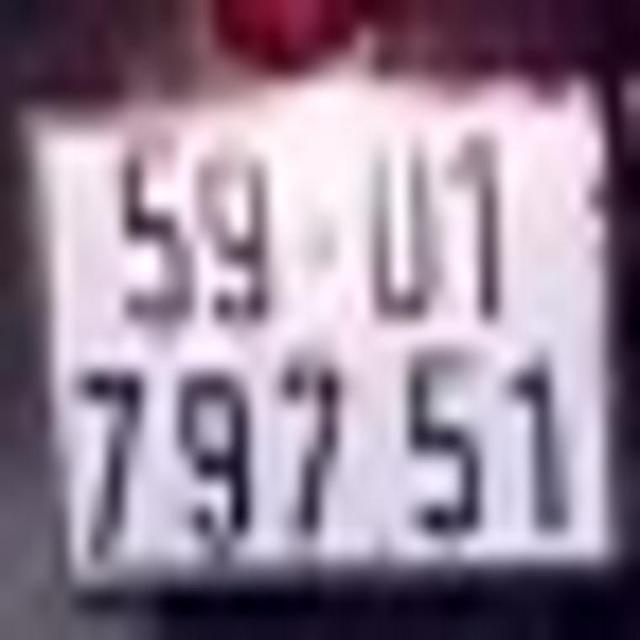1: (448, 126, 511, 326), (511, 342, 564, 542)
5: (392, 336, 492, 543), (120, 132, 203, 335)
7: (70, 363, 156, 575), (266, 347, 349, 560)
9: (169, 360, 256, 560), (204, 138, 274, 337)
U: (356, 123, 439, 319)
